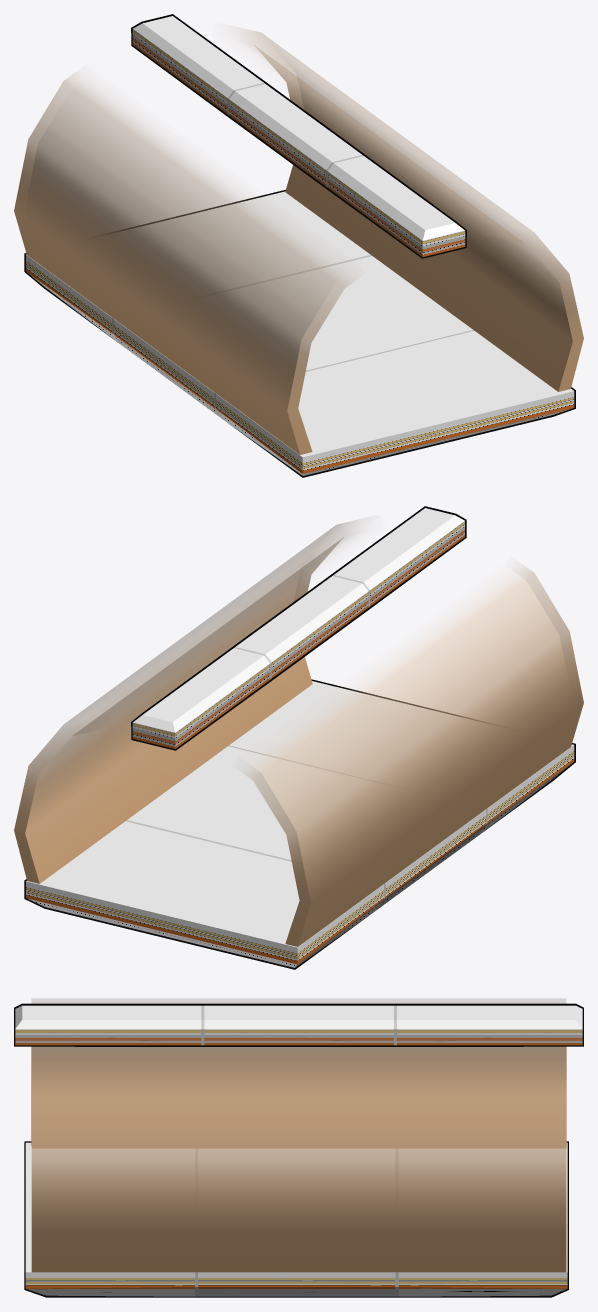
Rendered from SciFi_Bridge.glb.
3 views of the same model, one above another, from view 1: azimuth 30°, elevation 25°; view 2: azimuth 150°, elevation 25°; view 3: azimuth 270°, elevation 25° (orthographic). The views are drawn at different scales.
Visible parts, largest first — view 1: SciFi_Bridge; view 2: SciFi_Bridge; view 3: SciFi_Bridge.
Boxes of the visible parts, x1,y1,x2,y2 form: SciFi_Bridge: [14, 14, 583, 477]; SciFi_Bridge: [14, 506, 583, 969]; SciFi_Bridge: [14, 998, 583, 1297].
Size of the model in its own units: 6.01 by 4.48 by 10.21.
4 materials, 3 textured.
